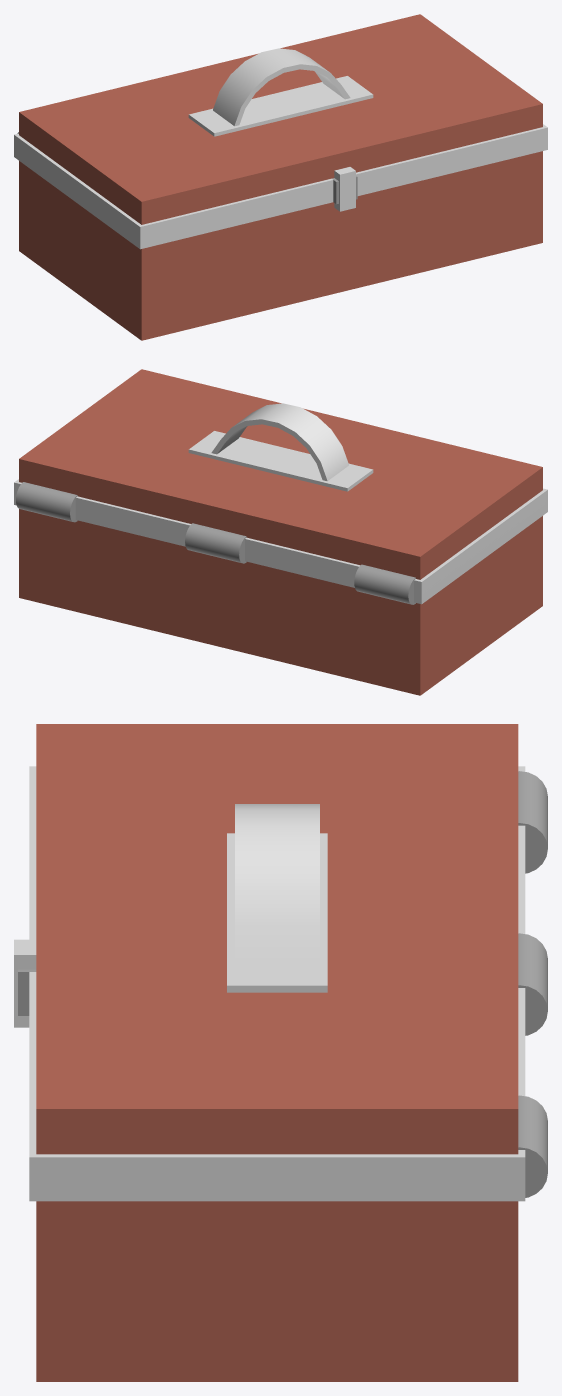
File: ToolBox.fbx
3 renders of one model, top to bottom at view 1: azimuth 30°, elevation 25°; view 2: azimuth 150°, elevation 25°; view 3: azimuth 270°, elevation 25°, orthographic. The views are drawn at different scales.
Visible parts, largest first — view 1: polySurface2, polySurface1, pCube5, pCube3, pCube4, pasted__pCube2; view 2: polySurface2, polySurface1, pCube5, pCube3, pCube4, pasted__polySurface6, polySurface6; view 3: polySurface2, polySurface1, pCube5, pCube4, pasted__polySurface6, pCube3, polySurface6, pasted__pCube2.
Part boxes in pixels (x1=…): polySurface2: x1=19, y1=14, x2=542, y2=224; polySurface1: x1=19, y1=151, x2=542, y2=340; pCube5: x1=14, y1=124, x2=547, y2=249; pCube3: x1=188, y1=76, x2=373, y2=136; pCube4: x1=213, y1=48, x2=350, y2=126; pasted__pCube2: x1=334, y1=167, x2=355, y2=211; polySurface2: x1=19, y1=369, x2=542, y2=579; polySurface1: x1=19, y1=509, x2=542, y2=695; pCube5: x1=14, y1=479, x2=547, y2=604; pCube3: x1=188, y1=431, x2=373, y2=491; pCube4: x1=211, y1=403, x2=348, y2=481; pasted__polySurface6: x1=16, y1=482, x2=415, y2=604; polySurface6: x1=185, y1=523, x2=246, y2=563; polySurface2: x1=36, y1=724, x2=518, y2=1154; polySurface1: x1=36, y1=1201, x2=518, y2=1381; pCube5: x1=29, y1=766, x2=525, y2=1201; pCube4: x1=235, y1=804, x2=319, y2=965; pasted__polySurface6: x1=518, y1=771, x2=547, y2=1197; pCube3: x1=227, y1=833, x2=327, y2=992; polySurface6: x1=518, y1=933, x2=547, y2=1035; pasted__pCube2: x1=14, y1=939, x2=36, y2=1027.
Bounding box in the file's own units: 19.12 × 8.47 × 11.04.
